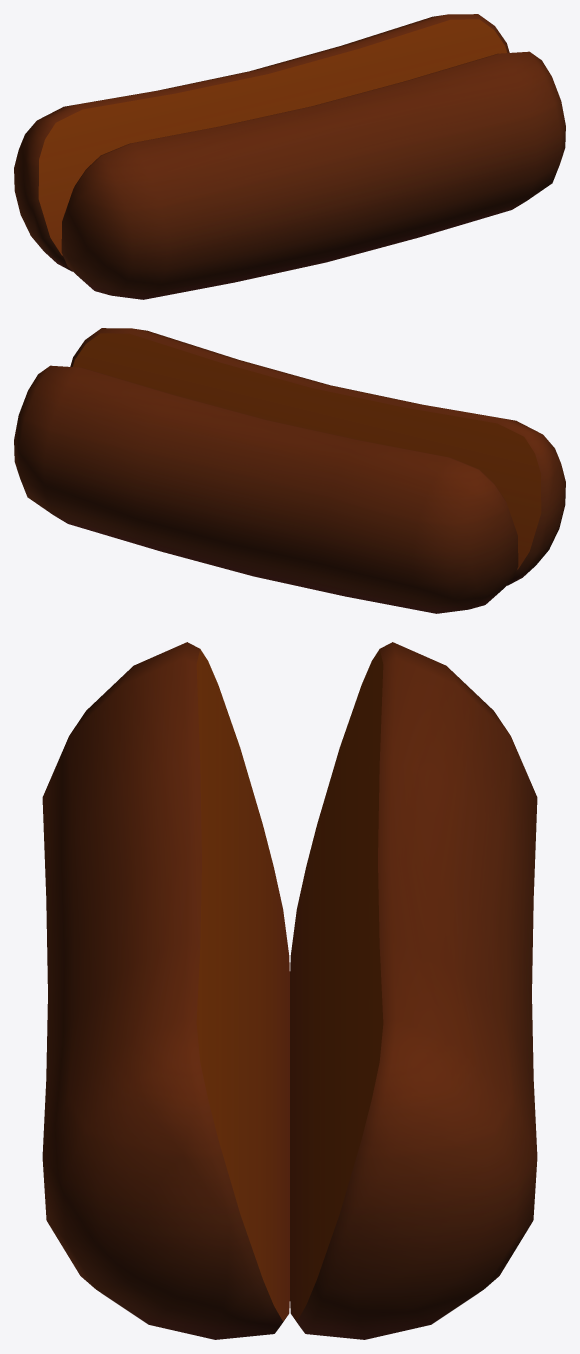
Rendered from HotDog_bun.005.fbx.
The picture shows the model from 3 angles, top to bottom: view 1: azimuth 30°, elevation 25°; view 2: azimuth 150°, elevation 25°; view 3: azimuth 270°, elevation 25°; orthographic projection. The views are drawn at different scales.
Parts seen in each view (by area): view 1: HotDog_bun.005; view 2: HotDog_bun.005; view 3: HotDog_bun.005.
Boxes of the visible parts, box(x1,y1,x2,y2) form: HotDog_bun.005: box(14, 14, 565, 299); HotDog_bun.005: box(14, 328, 565, 613); HotDog_bun.005: box(42, 642, 537, 1339).
Bounding box in the file's own units: 153 × 67.45 × 49.74.
